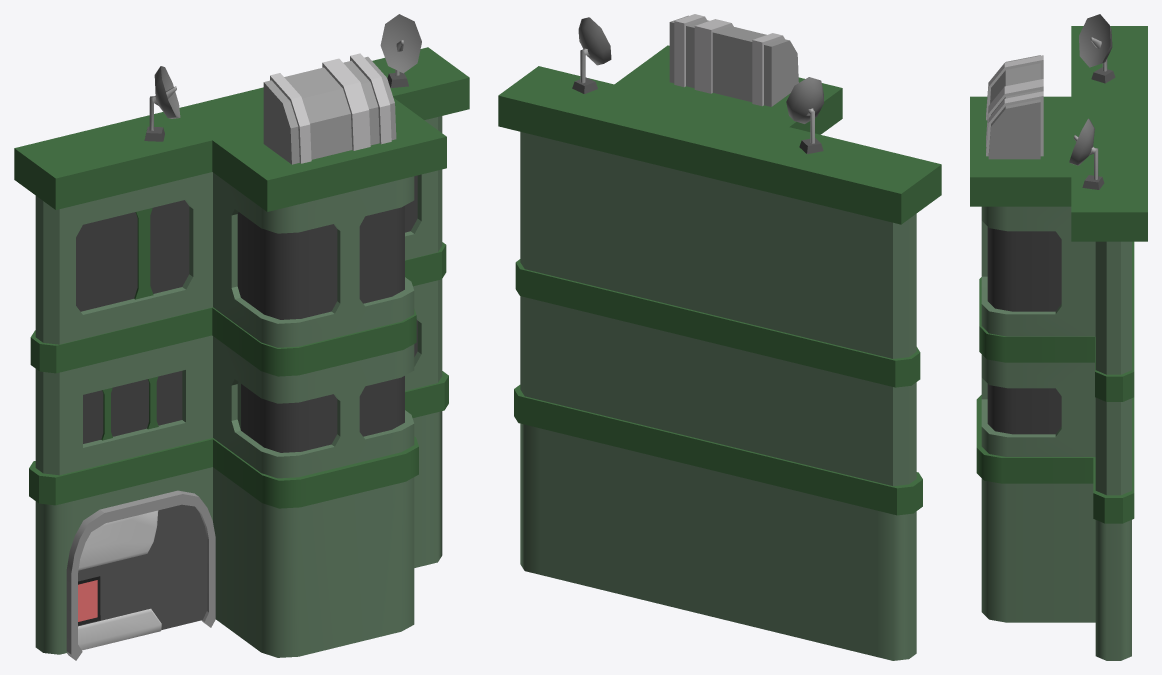
The model's file is NorthEast_House_05.fbx.
3 renders of one model, left to right at view 1: azimuth 30°, elevation 25°; view 2: azimuth 150°, elevation 25°; view 3: azimuth 270°, elevation 25°, orthographic. The views are drawn at different scales.
Parts seen in each view (by area): view 1: NorthEast_House_05; view 2: NorthEast_House_05; view 3: NorthEast_House_05.
Part boxes in pixels (x1,y1,x2,y2): NorthEast_House_05: [14, 14, 469, 660]; NorthEast_House_05: [498, 14, 941, 660]; NorthEast_House_05: [970, 14, 1147, 660].
Size of the model in its own units: 30.9 by 40.5 by 12.46.
